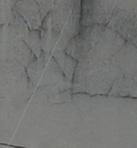termicas: (66, 1, 137, 107), (2, 1, 63, 108)
